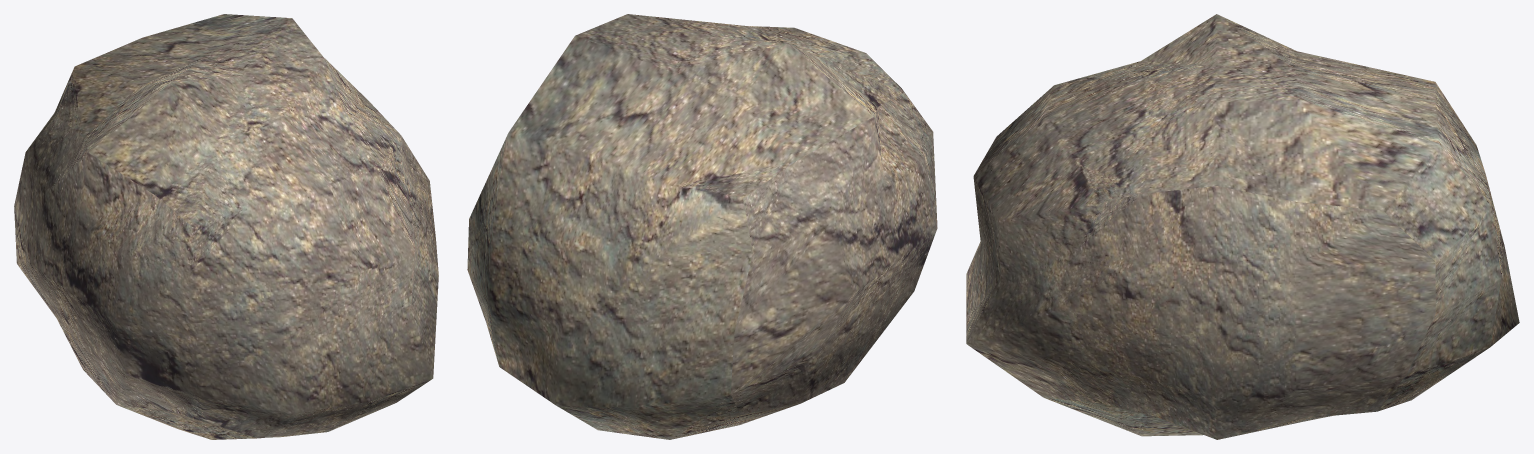
Rendered from Meteor2.fbx.
3 views of the same model, side by side, from view 1: azimuth 30°, elevation 25°; view 2: azimuth 150°, elevation 25°; view 3: azimuth 270°, elevation 25° (orthographic). The views are drawn at different scales.
Parts seen in each view (by area): view 1: Meteor; view 2: Meteor; view 3: Meteor.
Boxes of the visible parts, <box> form: Meteor: <box>14,14,438,439</box>; Meteor: <box>467,14,937,439</box>; Meteor: <box>966,14,1519,439</box>.
Size of the model in its own units: 16.38 by 16.54 by 21.76.
1 material, 1 textured.
